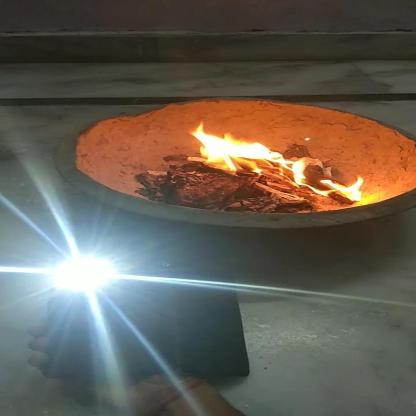fire: (184, 119, 366, 203)
